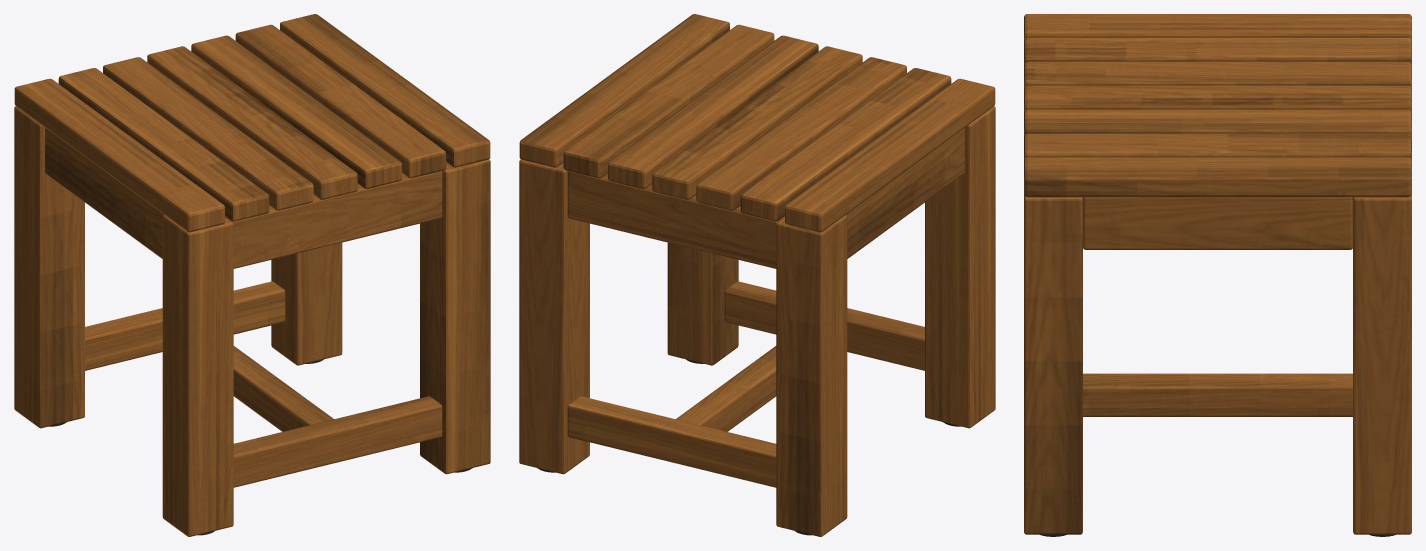
File: bath-cartaden-stool.glb
The picture shows the model from 3 angles, left to right: view 1: azimuth 30°, elevation 25°; view 2: azimuth 150°, elevation 25°; view 3: azimuth 270°, elevation 25°; orthographic projection. The views are drawn at different scales.
Visible parts, largest first — view 1: CARTADEN Mango Wood Stool; view 2: CARTADEN Mango Wood Stool; view 3: CARTADEN Mango Wood Stool.
Part boxes in pixels (<box>): CARTADEN Mango Wood Stool: <box>14,14,490,536</box>; CARTADEN Mango Wood Stool: <box>519,14,995,536</box>; CARTADEN Mango Wood Stool: <box>1024,14,1411,536</box>.
Size of the model in its own units: 0.29 by 0.3 by 0.29.
2 materials, 1 textured.
